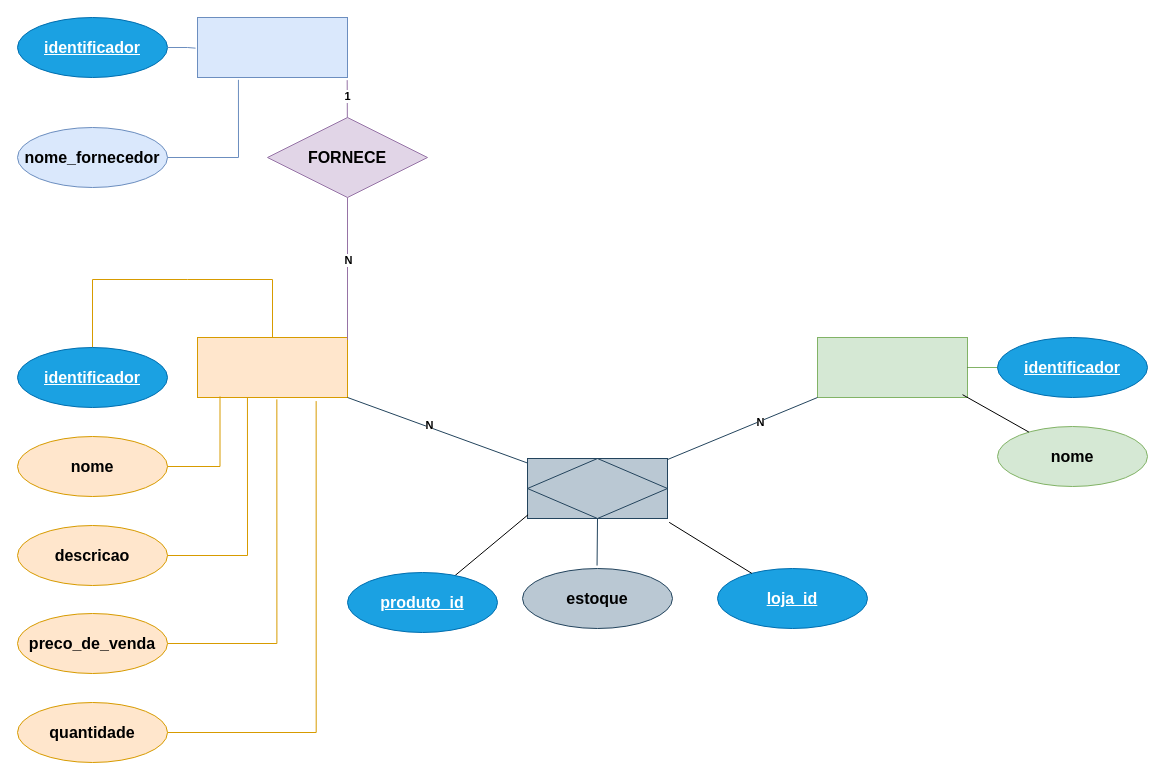
This 1165x780 diagram has some shape labels left out. Each missing label, with the centre of its shape:
FORNECEDOR: pixel 272 47
LOJA: pixel 892 367
LOJAS_PRODUTOS: pixel 597 488
PRODUTO: pixel 272 367
